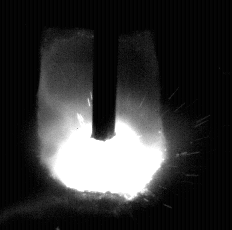arame: (93, 0, 117, 140)
poca: (38, 0, 164, 230)
